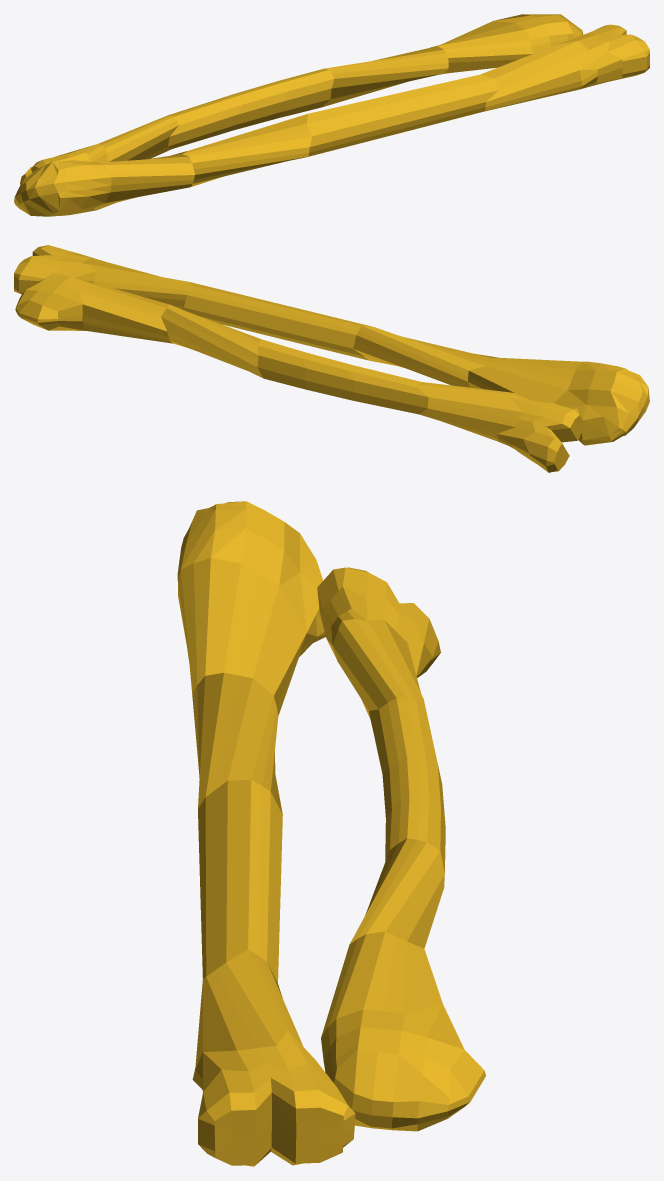
The model's file is Avant_Bras 1.fbx.
The picture shows the model from 3 angles, top to bottom: view 1: azimuth 30°, elevation 25°; view 2: azimuth 150°, elevation 25°; view 3: azimuth 270°, elevation 25°; orthographic projection. The views are drawn at different scales.
Visible parts, largest first — view 1: Ulna, Radius; view 2: Radius, Ulna; view 3: Ulna, Radius.
Boxes of the visible parts, <box> form: Ulna: <box>14,24,649,216</box>; Radius: <box>20,14,583,184</box>; Radius: <box>15,273,584,472</box>; Ulna: <box>14,245,649,445</box>; Ulna: <box>177,501,355,1166</box>; Radius: <box>317,567,485,1131</box>.
Size of the model in its own units: 13.13 by 1.54 by 2.86.
